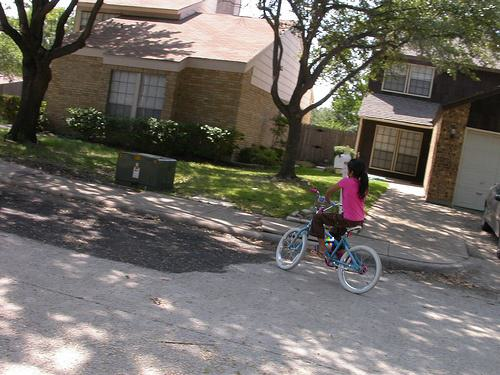car: (277, 188, 384, 295)
person: (311, 160, 371, 268)
